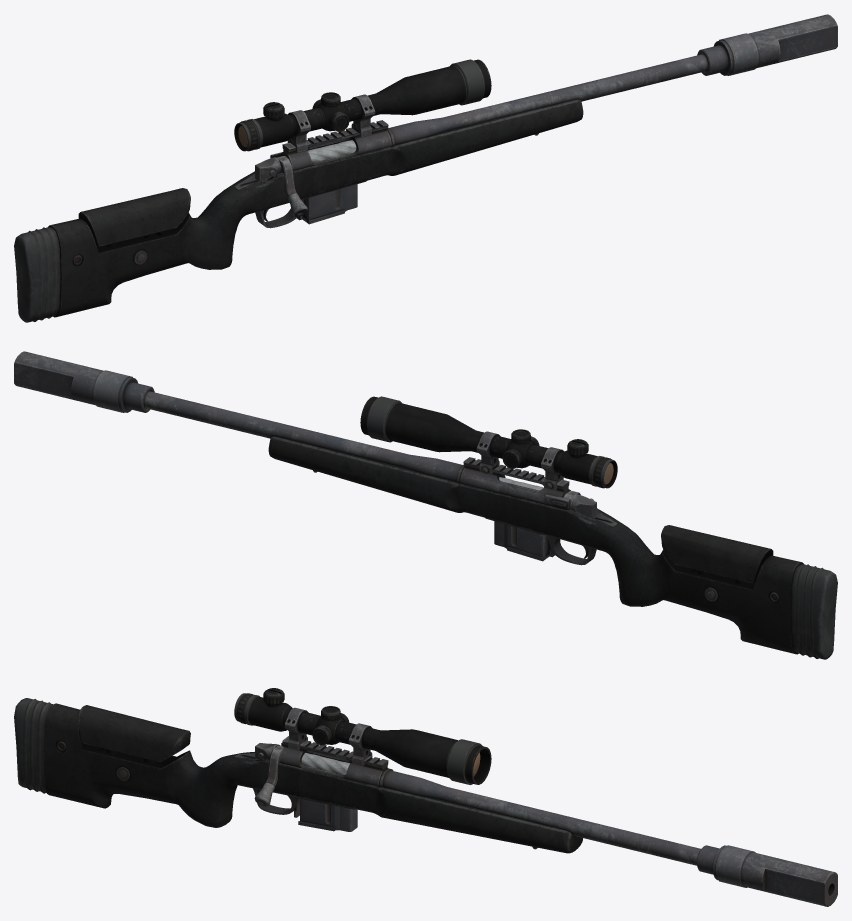
Rendered from sniper.glb.
3 views of the same model, one above another, from view 1: azimuth 30°, elevation 25°; view 2: azimuth 150°, elevation 25°; view 3: azimuth 330°, elevation 25° (orthographic).
Visible parts, largest first — view 1: base, scope, silencer, cheekrest, mag, bolt; view 2: base, scope, silencer, cheekrest, mag; view 3: base, scope, silencer, cheekrest, mag, bolt.
Part boxes in pixels (<box>): base: <box>14,53,708,322</box>; scope: <box>234,59,491,152</box>; silencer: <box>697,14,837,75</box>; cheekrest: <box>78,188,190,247</box>; mag: <box>302,184,357,224</box>; bolt: <box>276,140,356,216</box>; base: <box>143,390,837,659</box>; scope: <box>360,396,617,490</box>; silencer: <box>14,351,154,412</box>; cheekrest: <box>661,525,773,584</box>; mag: <box>494,521,550,561</box>; base: <box>14,698,700,865</box>; scope: <box>234,688,491,784</box>; silencer: <box>697,845,837,906</box>; cheekrest: <box>78,705,190,763</box>; mag: <box>298,798,357,831</box>; bolt: <box>254,745,349,806</box>.
Size of the model in its own units: 1.43 by 0.2647 by 0.0995.
2 materials, 1 textured.
